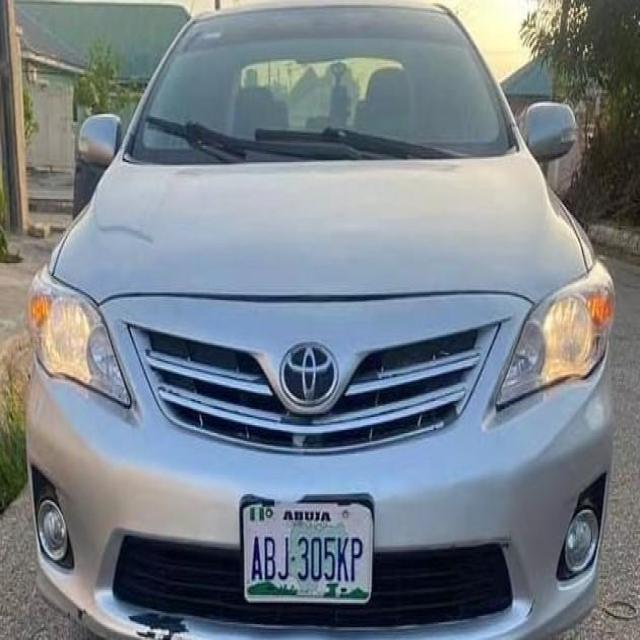Nigerian License Plate - vdataset benjamin-daria: (236, 493, 379, 611)
